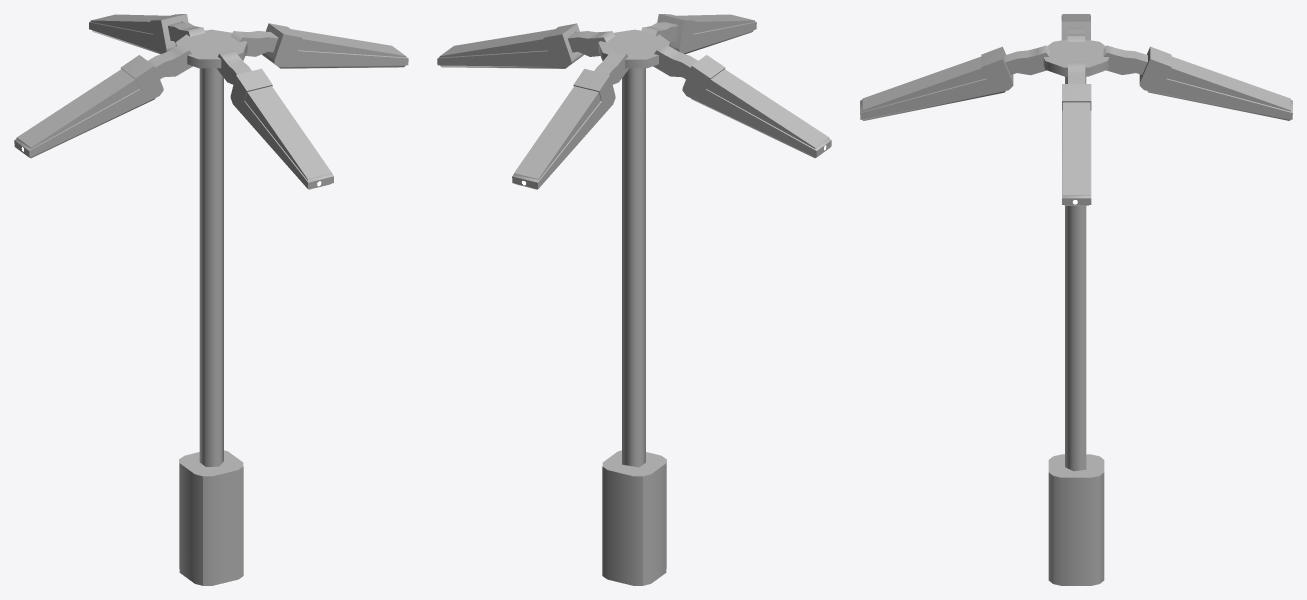
File: KF_Kalonji_SM_StreetLight (Trimsheet)02.fbx
3 views of the same model, side by side, from view 1: azimuth 30°, elevation 25°; view 2: azimuth 150°, elevation 25°; view 3: azimuth 270°, elevation 25° (orthographic).
Parts seen in each view (by area): view 1: Steel, Stand, Toplight004, Toplight001, Toplight002, Toplight003, Cylinder003; view 2: Steel, Stand, Toplight004, Toplight003, Toplight002, Toplight001, Cylinder003; view 3: Stand, Toplight003, Toplight001, Steel, Toplight002, Cylinder003, Toplight004.
Part boxes in pixels (left/top/right/bottom): Steel: left=199, top=68, right=223, bottom=466; Stand: left=179, top=450, right=243, bottom=585; Toplight004: left=14, top=44, right=192, bottom=157; Toplight001: left=217, top=50, right=333, bottom=189; Toplight002: left=231, top=23, right=408, bottom=68; Toplight003: left=89, top=14, right=204, bottom=53; Cylinder003: left=175, top=29, right=247, bottom=68; Steel: left=622, top=68, right=645, bottom=467; Stand: left=602, top=450, right=666, bottom=585; Toplight004: left=653, top=44, right=831, bottom=157; Toplight003: left=512, top=50, right=629, bottom=189; Toplight002: left=437, top=23, right=614, bottom=68; Toplight001: left=640, top=14, right=756, bottom=53; Cylinder003: left=598, top=29, right=670, bottom=68; Stand: left=1048, top=454, right=1104, bottom=585; Toplight003: left=1103, top=45, right=1292, bottom=120; Toplight001: left=860, top=45, right=1049, bottom=120; Steel: left=1065, top=76, right=1086, bottom=471; Toplight002: left=1062, top=61, right=1091, bottom=205; Cylinder003: left=1043, top=39, right=1109, bottom=76; Toplight004: left=1061, top=14, right=1090, bottom=41.
Bounding box in the file's own units: 372 × 498 × 372.
